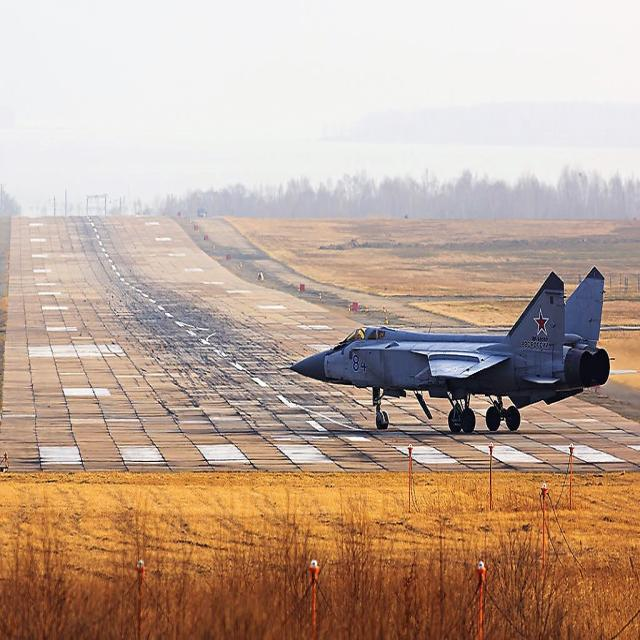MIL_Plane: (277, 264, 640, 432)
